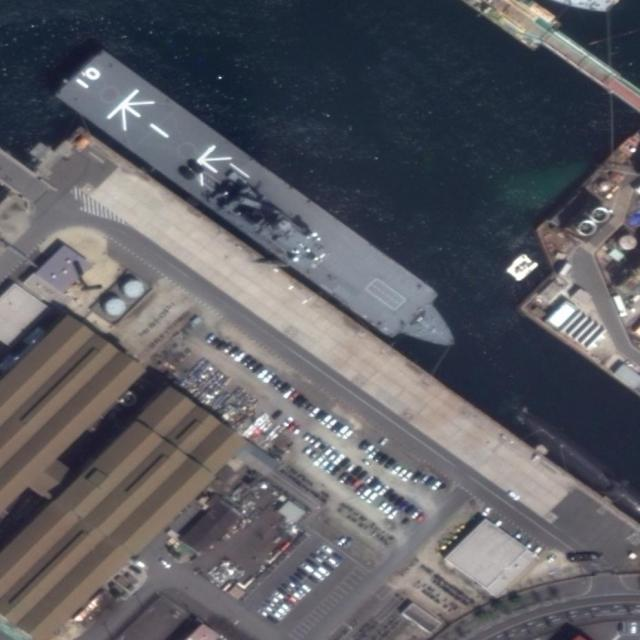Landing: (50, 37, 476, 372)
